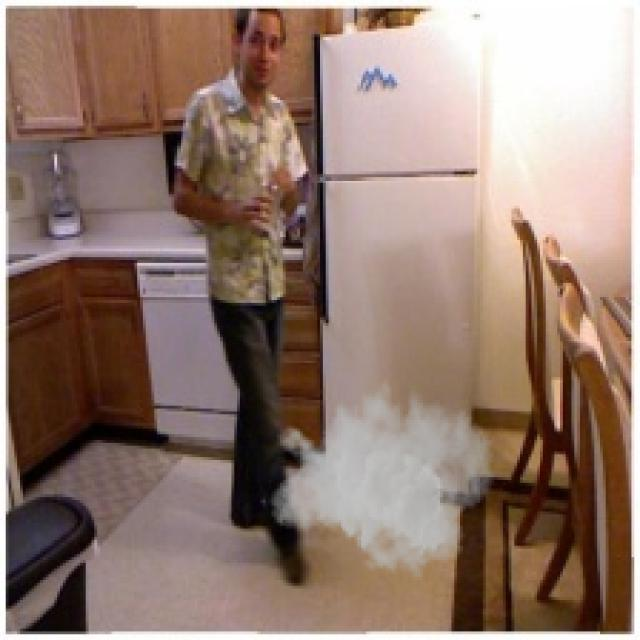Smoke: (268, 368, 494, 580)
